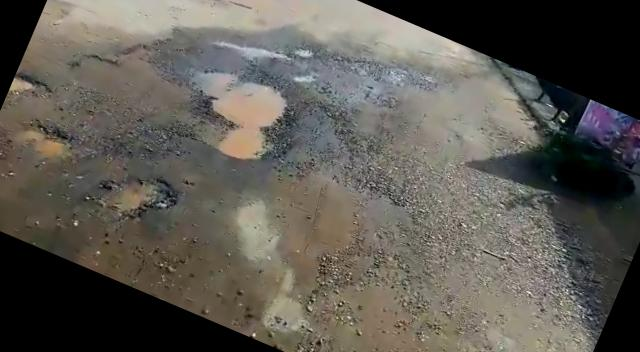pothole: (170, 56, 295, 171), (100, 158, 182, 233), (6, 68, 54, 114)
